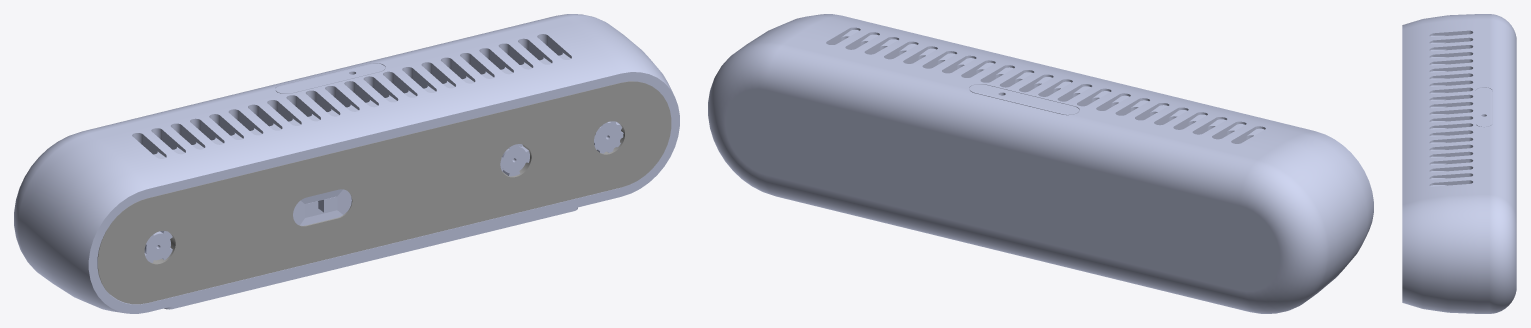
File: camera.dae
3 views of the same model, side by side, from view 1: azimuth 30°, elevation 25°; view 2: azimuth 150°, elevation 25°; view 3: azimuth 270°, elevation 25° (orthographic). The views are drawn at different scales.
Visible parts, largest first — view 1: ID2; view 2: ID2; view 3: ID2.
Boxes of the visible parts, x1,y1,x2,y2 form: ID2: [14, 14, 679, 313]; ID2: [708, 14, 1373, 313]; ID2: [1402, 14, 1516, 313].
Size of the model in its own units: 0.0989 by 0.021 by 0.023.
